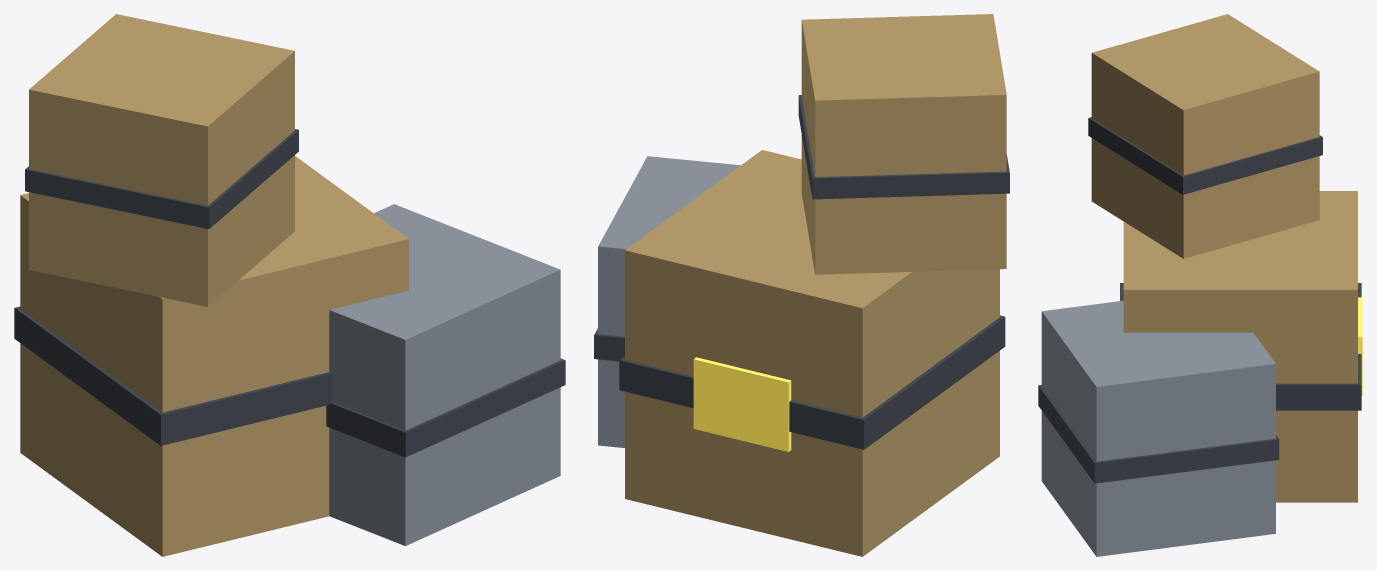
The model's file is prop_crate_stack.glb.
3 renders of one model, left to right at view 1: azimuth 30°, elevation 25°; view 2: azimuth 150°, elevation 25°; view 3: azimuth 270°, elevation 25°, orthographic. The views are drawn at different scales.
Parts seen in each view (by area): view 1: prop_crate_stack; view 2: prop_crate_stack; view 3: prop_crate_stack.
Boxes of the visible parts, <box> form: prop_crate_stack: <box>14,14,565,556</box>; prop_crate_stack: <box>594,14,1009,556</box>; prop_crate_stack: <box>1038,14,1362,556</box>.
Bounding box in the file's own units: 1.86 × 1.7 × 1.38.
